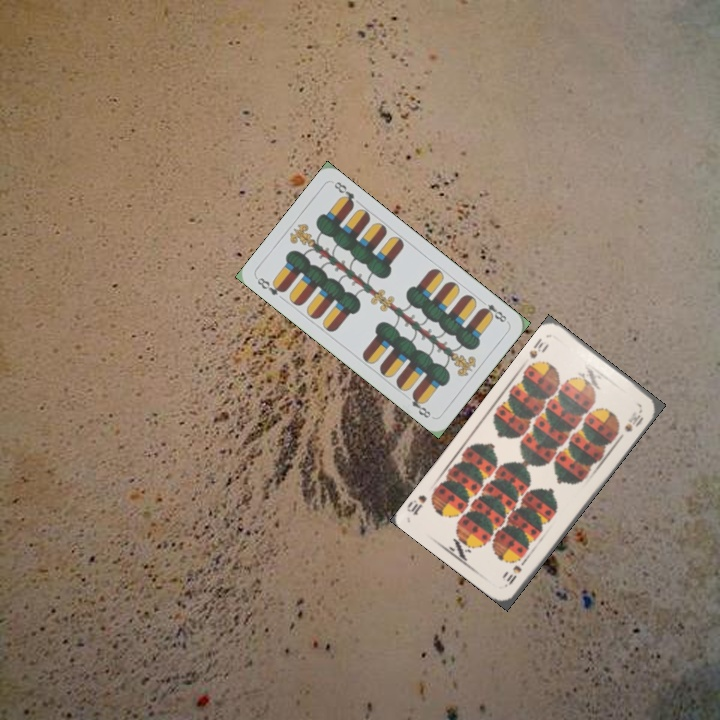E8: (477, 295, 510, 325), (253, 273, 288, 298)
S10: (500, 554, 530, 590), (525, 334, 552, 361)
